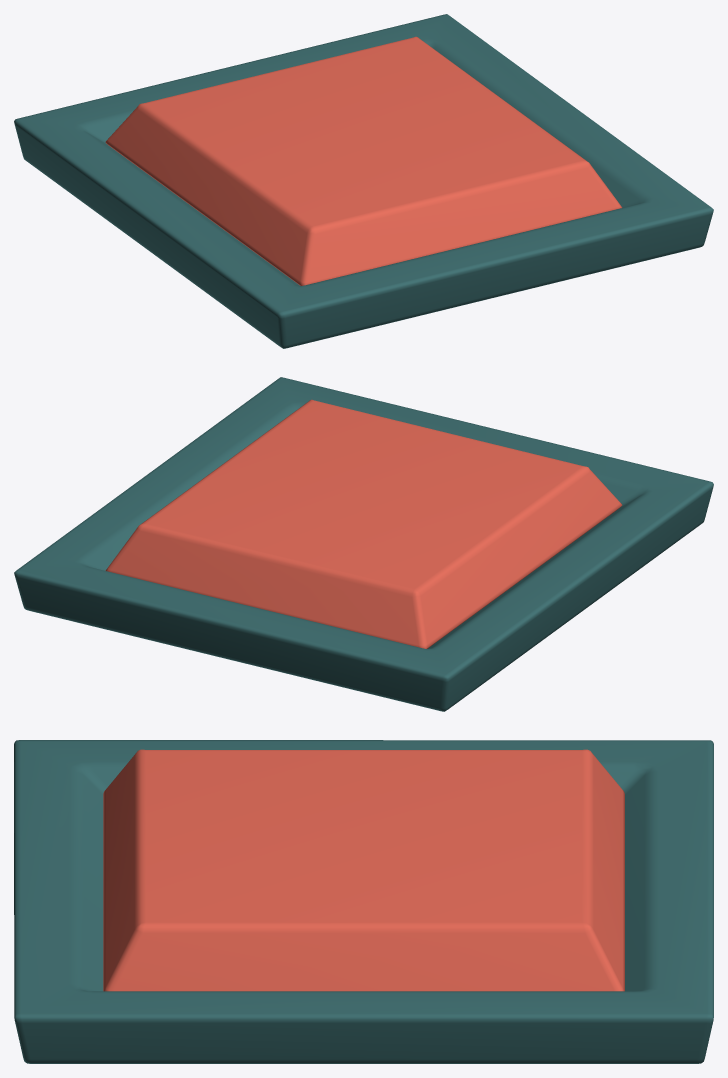
Rendered from SM_Button_Trigger_01.fbx.
3 views of the same model, one above another, from view 1: azimuth 30°, elevation 25°; view 2: azimuth 150°, elevation 25°; view 3: azimuth 270°, elevation 25° (orthographic). The views are drawn at different scales.
Visible parts, largest first — view 1: SM_Button_Trigger_01; view 2: SM_Button_Trigger_01; view 3: SM_Button_Trigger_01.
Boxes of the visible parts, bbox=[...] form: SM_Button_Trigger_01: bbox=[14, 14, 713, 348]; SM_Button_Trigger_01: bbox=[14, 377, 713, 711]; SM_Button_Trigger_01: bbox=[14, 740, 713, 1063].
Size of the model in its own units: 85.05 by 13.41 by 90.6.
